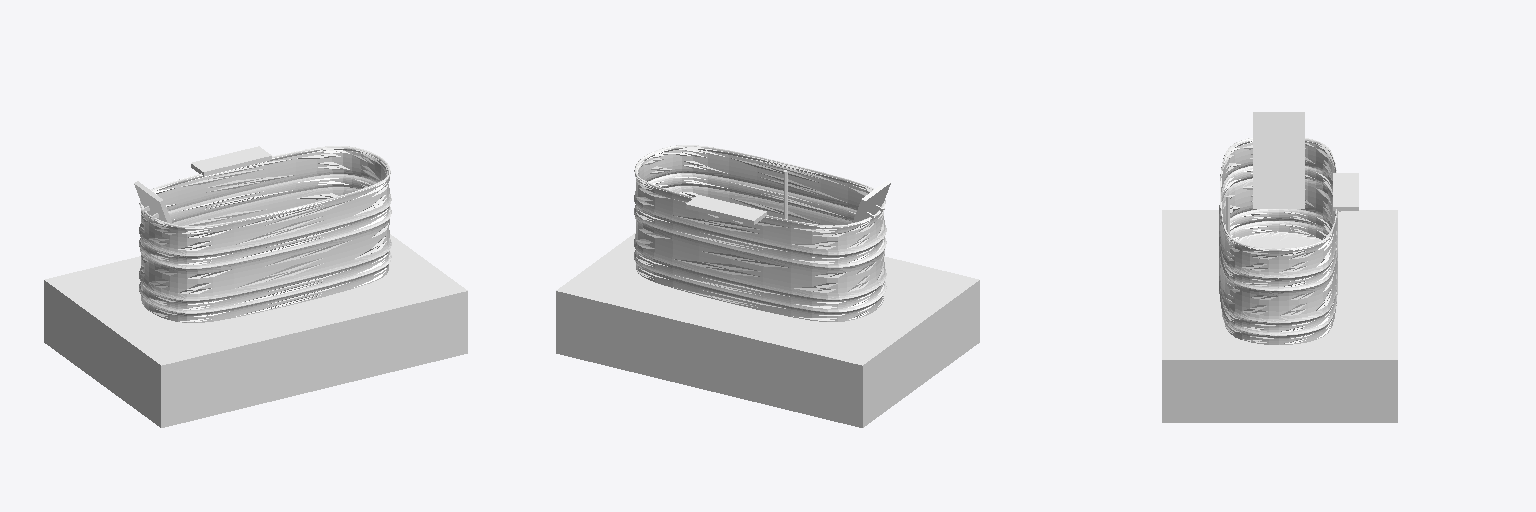
File: 866211_Vasca.obj
3 views of the same model, side by side, from view 1: azimuth 30°, elevation 25°; view 2: azimuth 150°, elevation 25°; view 3: azimuth 270°, elevation 25° (orthographic).
Parts seen in each view (by area): view 1: sfondo, vasca, tavolino, schienale; view 2: sfondo, vasca, tavolino, schienale; view 3: sfondo, vasca, schienale, tavolino.
Boxes of the visible parts, x1=… form: sfondo: x1=44, y1=234, x2=467, y2=427; vasca: x1=139, y1=146, x2=391, y2=322; tavolino: x1=191, y1=146, x2=271, y2=176; schienale: x1=134, y1=181, x2=172, y2=223; sfondo: x1=556, y1=233, x2=979, y2=427; vasca: x1=634, y1=145, x2=886, y2=321; tavolino: x1=686, y1=195, x2=766, y2=224; schienale: x1=853, y1=180, x2=890, y2=222; sfondo: x1=1162, y1=210, x2=1397, y2=422; vasca: x1=1219, y1=138, x2=1337, y2=344; schienale: x1=1253, y1=112, x2=1304, y2=208; tavolino: x1=1333, y1=173, x2=1358, y2=211.
Size of the model in its own units: 86.27 by 49.42 by 57.25.